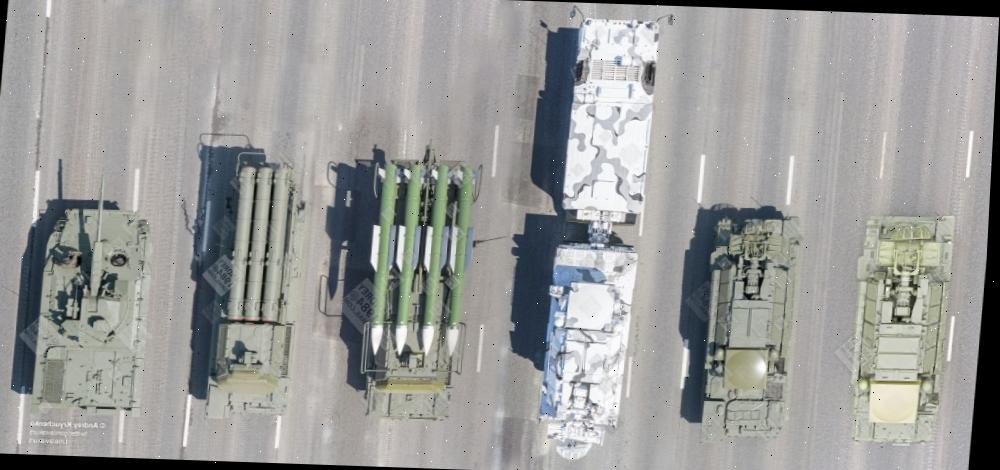armored_car: (326, 152, 486, 427), (22, 167, 159, 418), (835, 206, 964, 454), (693, 208, 806, 446)
